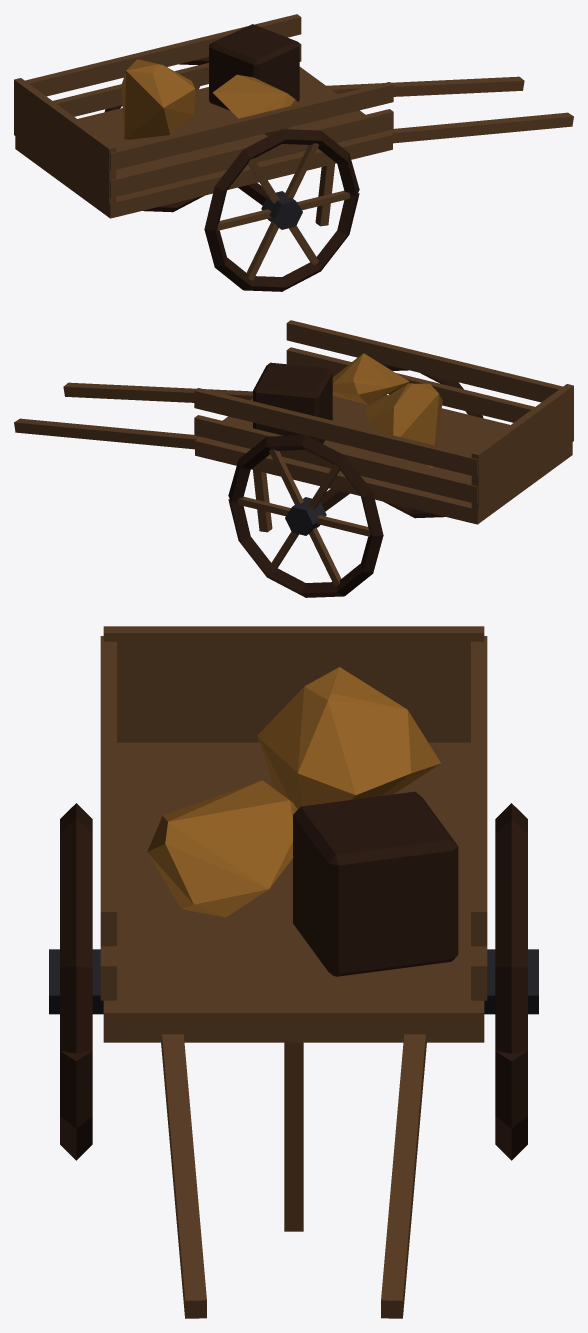
File: carreta.fbx
3 renders of one model, top to bottom at view 1: azimuth 30°, elevation 25°; view 2: azimuth 150°, elevation 25°; view 3: azimuth 270°, elevation 25°, orthographic. The views are drawn at different scales.
Parts seen in each view (by area): view 1: carreta; view 2: carreta; view 3: carreta.
Boxes of the visible parts, bbox=[...] form: carreta: bbox=[14, 14, 573, 291]; carreta: bbox=[14, 320, 573, 597]; carreta: bbox=[49, 626, 538, 1318].
Size of the model in its own units: 4.12 by 1.59 by 1.8.
